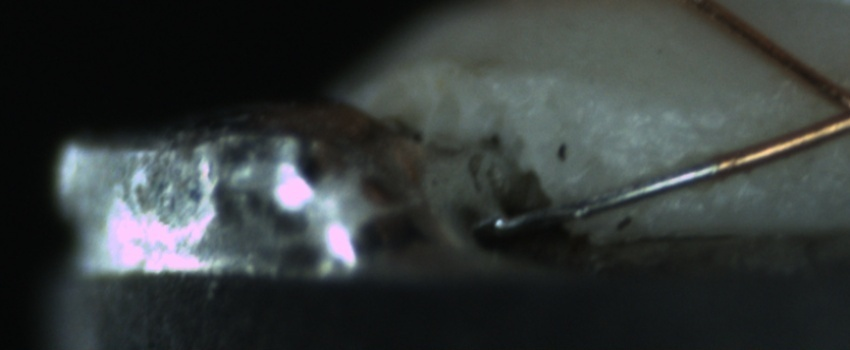CL: (803, 66, 850, 143)
TS: (497, 160, 720, 236)
